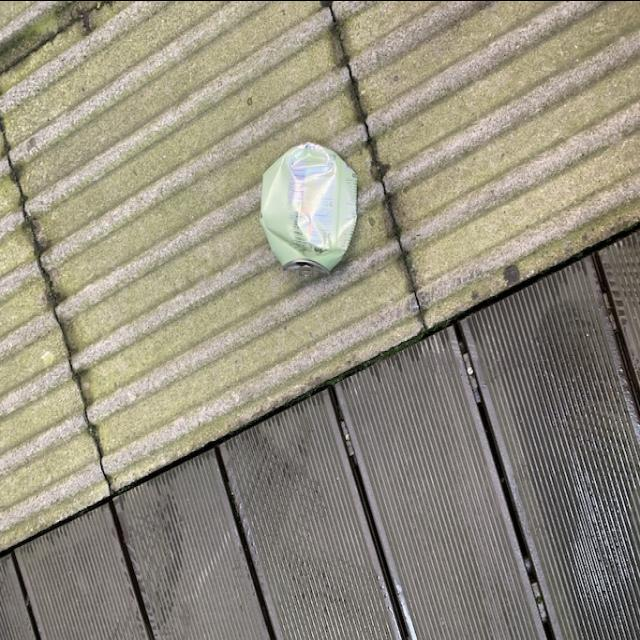Aluminum Can: (252, 144, 366, 282)
